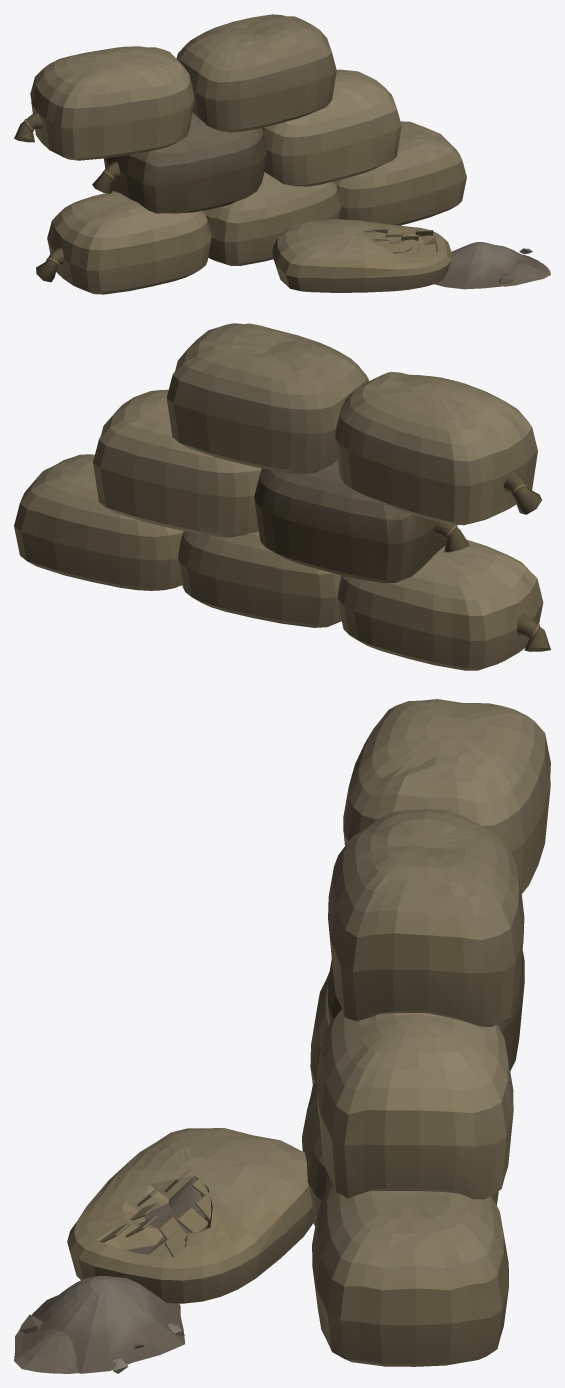
File: sandbags.glb
3 views of the same model, one above another, from view 1: azimuth 30°, elevation 25°; view 2: azimuth 150°, elevation 25°; view 3: azimuth 270°, elevation 25° (orthographic). The views are drawn at different scales.
Visible parts, largest first — view 1: sandbags; view 2: sandbags; view 3: sandbags.
Part boxes in pixels (bbox=[...]): sandbags: bbox=[14, 14, 550, 294]; sandbags: bbox=[14, 323, 550, 670]; sandbags: bbox=[14, 699, 550, 1373].
Size of the model in its own units: 1.36 by 0.6474 by 0.8473.
